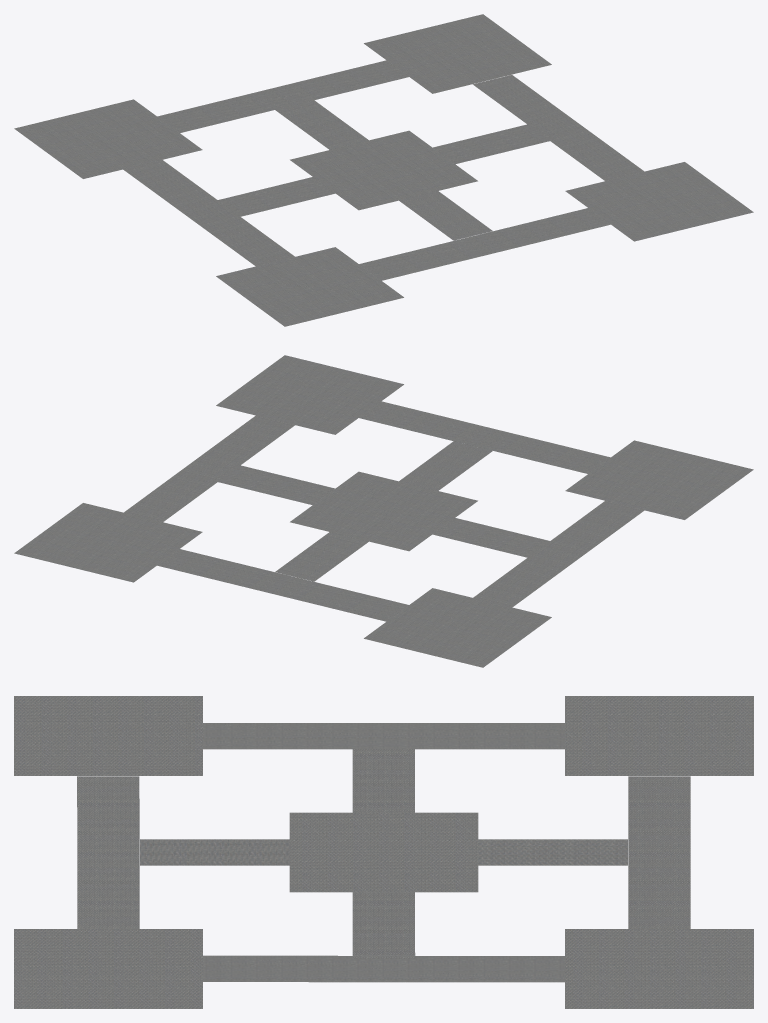
Rendered from floor.obj.
3 renders of one model, top to bottom at view 1: azimuth 30°, elevation 25°; view 2: azimuth 150°, elevation 25°; view 3: azimuth 270°, elevation 25°, orthographic. The views are drawn at different scales.
Visible parts, largest first — view 1: Floor_Plane.023; view 2: Floor_Plane.023; view 3: Floor_Plane.023.
Boxes of the visible parts, <box> form: Floor_Plane.023: <box>14,14,753,326</box>; Floor_Plane.023: <box>14,355,753,667</box>; Floor_Plane.023: <box>14,696,753,1008</box>.
Size of the model in its own units: 59.08 by 0.0217 by 59.09.
